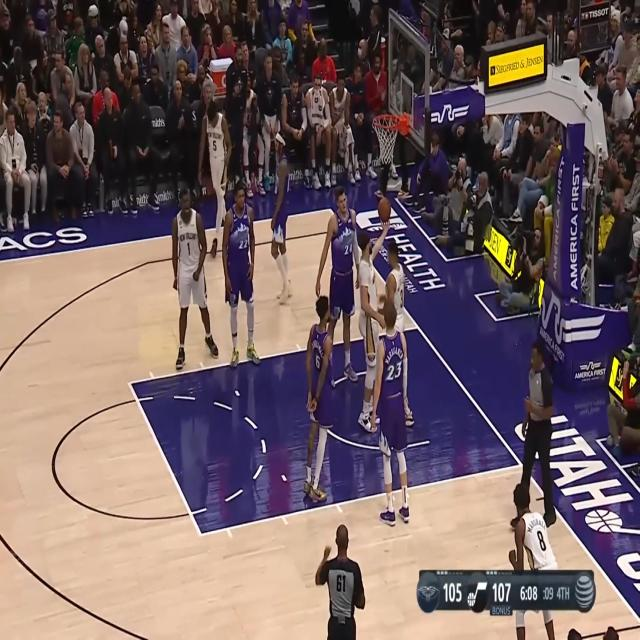Ball: (378, 198, 391, 222)
Clock: (580, 0, 610, 7)
Hoop: (372, 114, 401, 165)
Overlay: (416, 570, 596, 617)
Player: (369, 298, 412, 528), (314, 184, 360, 386), (172, 185, 219, 371), (507, 483, 560, 640), (221, 182, 264, 368), (358, 219, 390, 433), (302, 293, 334, 504), (378, 240, 414, 426), (198, 100, 232, 260), (270, 128, 294, 310)
Ref: (508, 339, 557, 532), (313, 524, 366, 640)
Scoreboard: (417, 570, 572, 616)
